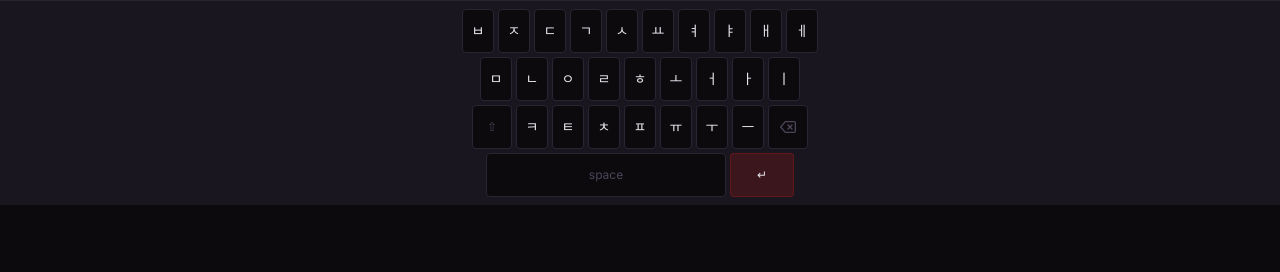
Test case: HangulKeyboard › shows composition preview when composing
# Press ㅎ then ㅏ — composes 하 which only appears in the preview (not as a key)
Step 1. Click the button "ㅎ" → point(640, 79), box [624,57,656,101]
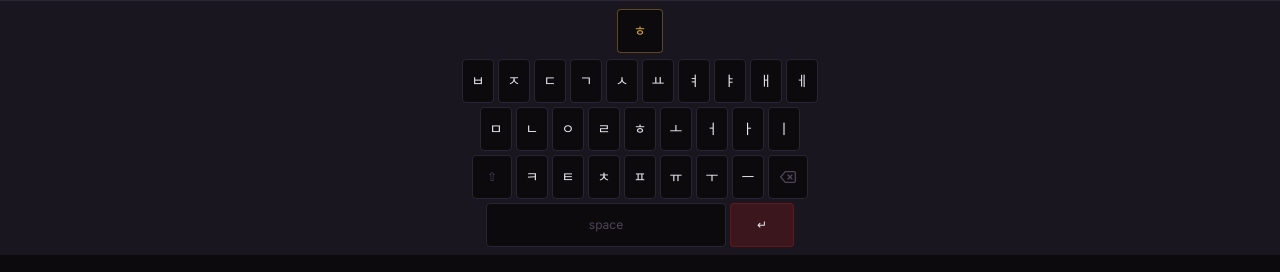
Step 2. Click the button "ㅏ" → point(748, 129), box [732,107,764,151]
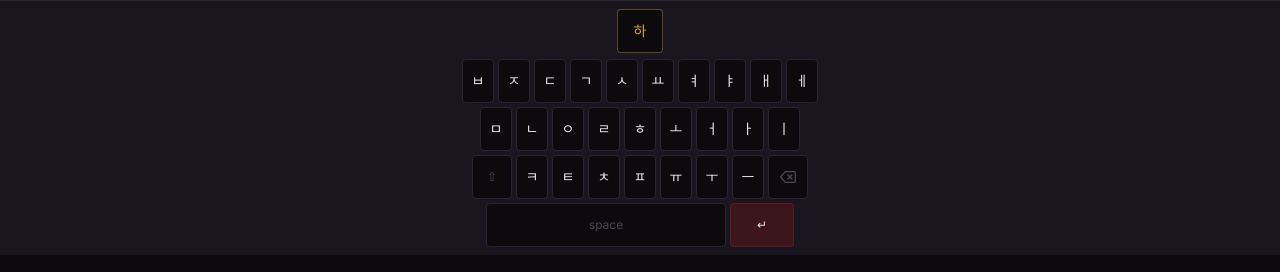
Result: the button "하" is shown at [616,9,663,53]
